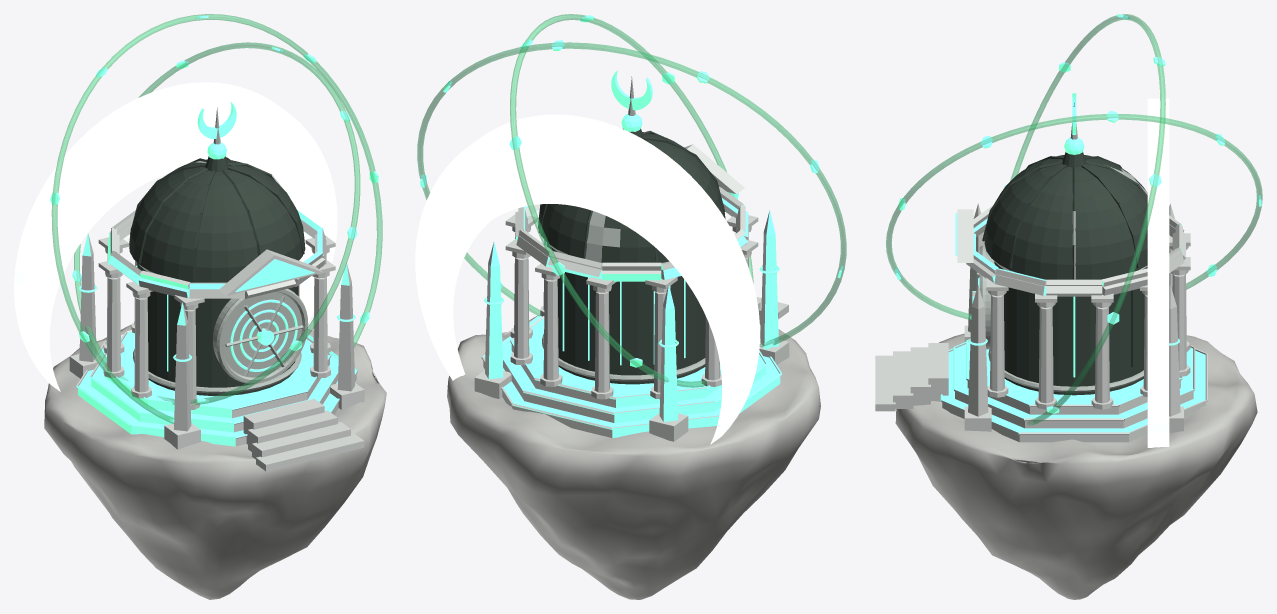
The model's file is banco-lunar.glb.
3 views of the same model, side by side, from view 1: azimuth 30°, elevation 25°; view 2: azimuth 150°, elevation 25°; view 3: azimuth 270°, elevation 25° (orthographic). The views are drawn at different scales.
Parts seen in each view (by area): view 1: Moon_Rock_Base, Bank_Crescent, Vault_Body, Bank_Plinth, Bank_Colonnade, Vault_Ring, Vault_Door, Bank_Obelisks, Ledger_Motes, Vault_Spire; view 2: Moon_Rock_Base, Bank_Crescent, Vault_Body, Bank_Colonnade, Bank_Plinth, Vault_Ring, Bank_Obelisks, Ledger_Motes, Vault_Spire; view 3: Moon_Rock_Base, Vault_Body, Bank_Plinth, Bank_Colonnade, Vault_Ring, Bank_Crescent, Bank_Obelisks, Ledger_Motes, Vault_Door.
Boxes of the visible parts, bbox=[...] form: Moon_Rock_Base: bbox=[44, 325, 386, 599]; Bank_Crescent: bbox=[14, 82, 337, 391]; Vault_Body: bbox=[129, 156, 305, 395]; Bank_Plinth: bbox=[76, 330, 364, 471]; Bank_Colonnade: bbox=[98, 210, 335, 409]; Vault_Ring: bbox=[51, 14, 382, 423]; Vault_Door: bbox=[213, 289, 308, 383]; Bank_Obelisks: bbox=[69, 233, 364, 449]; Ledger_Motes: bbox=[50, 15, 378, 423]; Vault_Spire: bbox=[197, 102, 236, 144]; Moon_Rock_Base: bbox=[447, 315, 820, 599]; Bank_Crescent: bbox=[415, 114, 759, 444]; Vault_Body: bbox=[538, 128, 725, 384]; Bank_Colonnade: bbox=[505, 144, 758, 399]; Bank_Plinth: bbox=[481, 297, 788, 437]; Vault_Ring: bbox=[417, 14, 846, 387]; Bank_Obelisks: bbox=[474, 210, 789, 441]; Ledger_Motes: bbox=[420, 15, 843, 367]; Vault_Spire: bbox=[611, 70, 652, 115]; Moon_Rock_Base: bbox=[895, 333, 1257, 599]; Vault_Body: bbox=[982, 152, 1147, 395]; Bank_Plinth: bbox=[875, 339, 1207, 442]; Bank_Colonnade: bbox=[955, 204, 1190, 409]; Vault_Ring: bbox=[886, 14, 1262, 425]; Bank_Crescent: bbox=[1147, 98, 1169, 447]; Bank_Obelisks: bbox=[964, 203, 1183, 432]; Ledger_Motes: bbox=[895, 14, 1261, 413]; Vault_Door: bbox=[972, 245, 994, 349].
Size of the model in its own units: 3.55 by 5.21 by 3.28.
